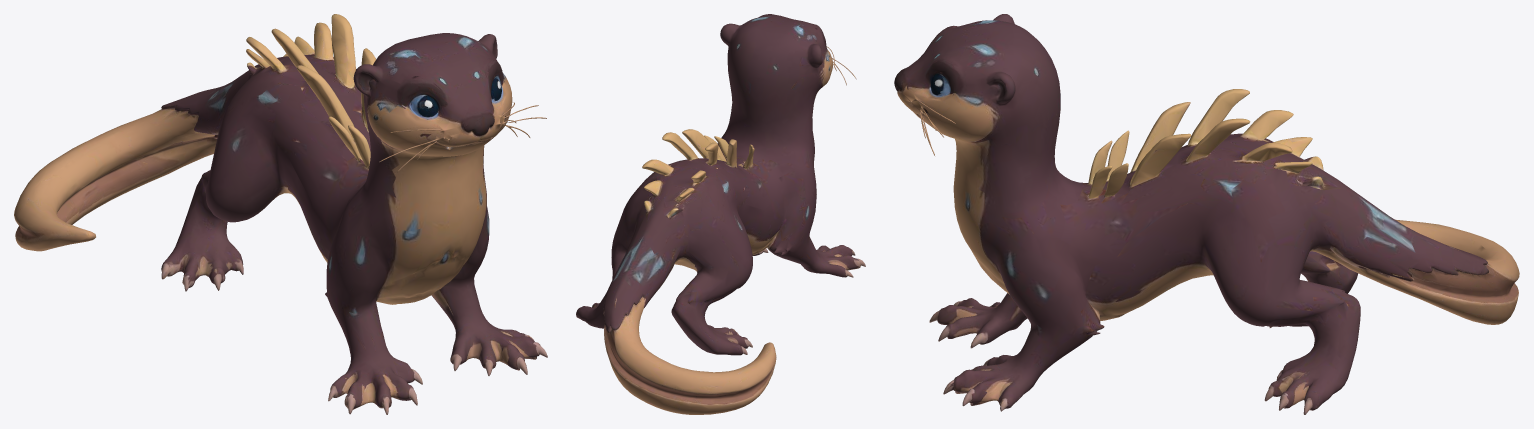
3 renders of one model, left to right at view 1: azimuth 30°, elevation 25°; view 2: azimuth 150°, elevation 25°; view 3: azimuth 270°, elevation 25°, orthographic. The views are drawn at different scales.
Visible parts, largest first — view 1: Mesh_0; view 2: Mesh_0; view 3: Mesh_0.
Part boxes in pixels (x1,y1,x2,y2): Mesh_0: (14,14,547,414); Mesh_0: (576,14,865,414); Mesh_0: (894,14,1519,414).
Bounding box in the file's own units: 1.11 × 1.11 × 1.9.
Materials: 1 (1 with a texture image).
